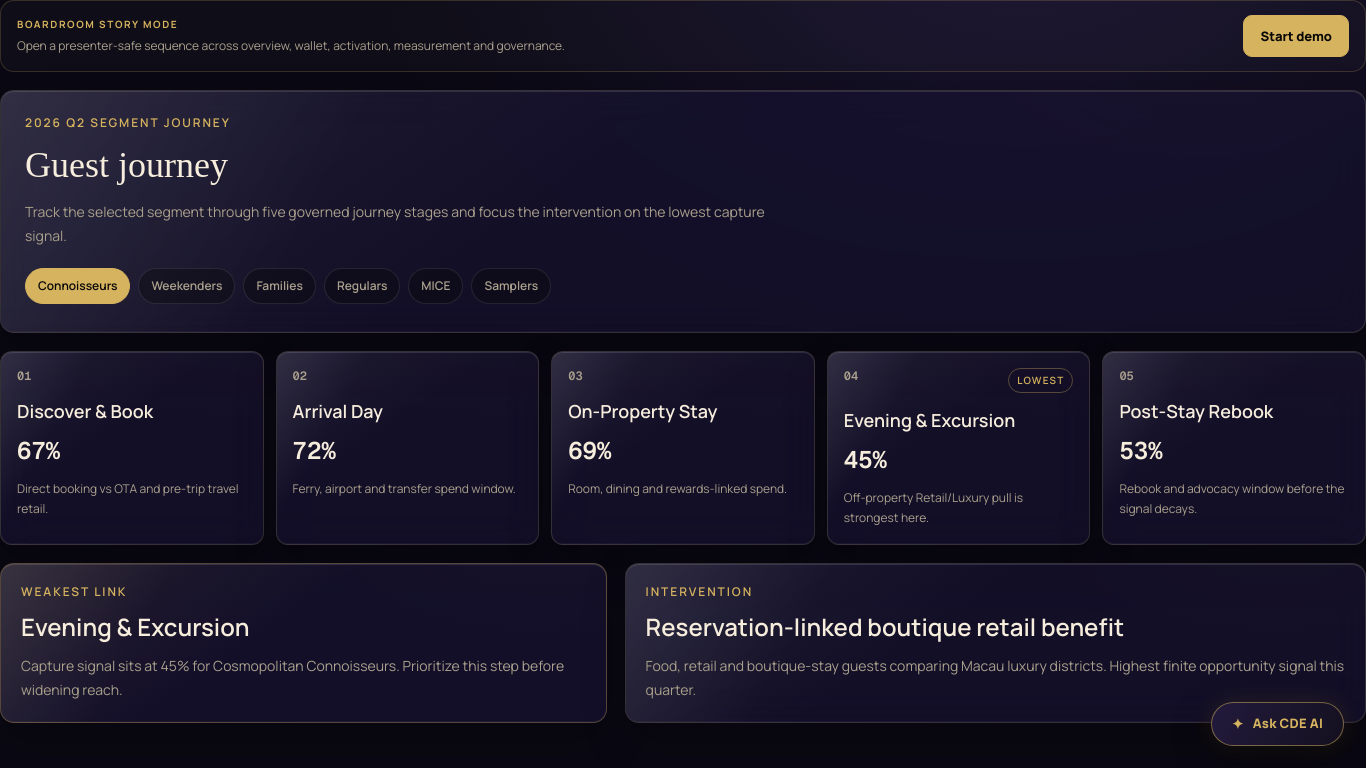
ConstellationRedesignScreen › selects a Journey segment chip and updates the weakest-link context
Click the button "Weekenders": (187, 286) [138, 268, 235, 304]
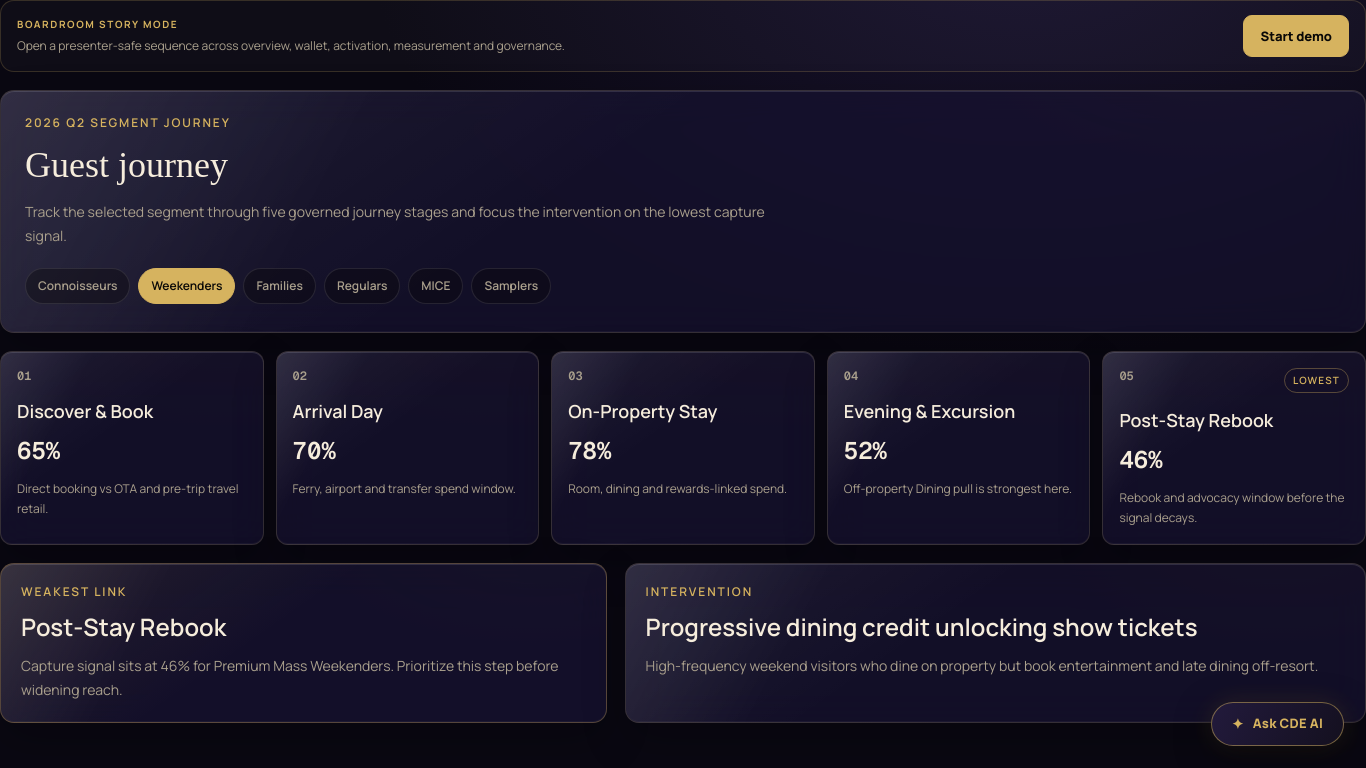
Now the text "for Premium Mass Weekenders" is shown, box [21, 654, 586, 702]
